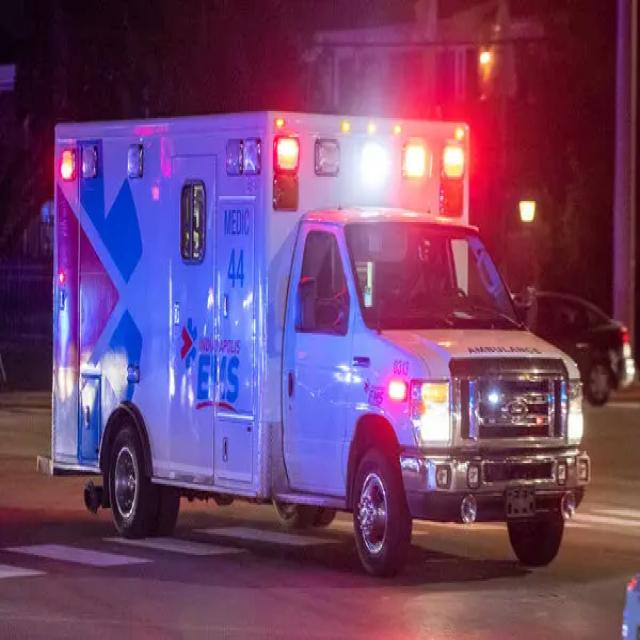emergency lights: (253, 99, 476, 211)
